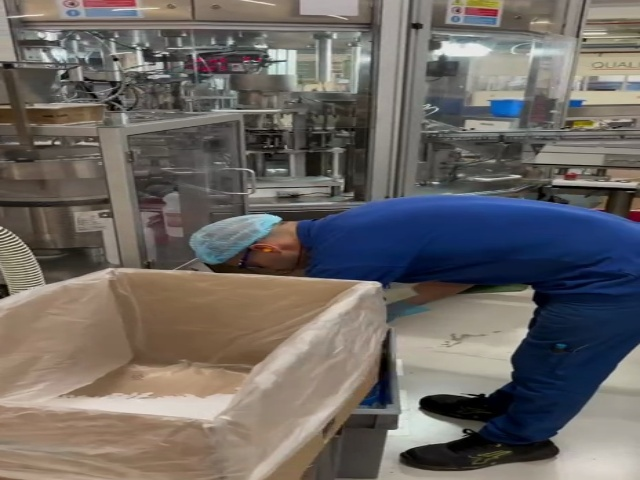Earplug: (249, 242, 279, 260)
Hairnet: (188, 213, 279, 264)
No_Helmet: (188, 211, 279, 265)
No_Vest: (303, 202, 640, 296)
Person: (180, 204, 640, 480)
Safety_Goggles: (232, 246, 255, 272)
